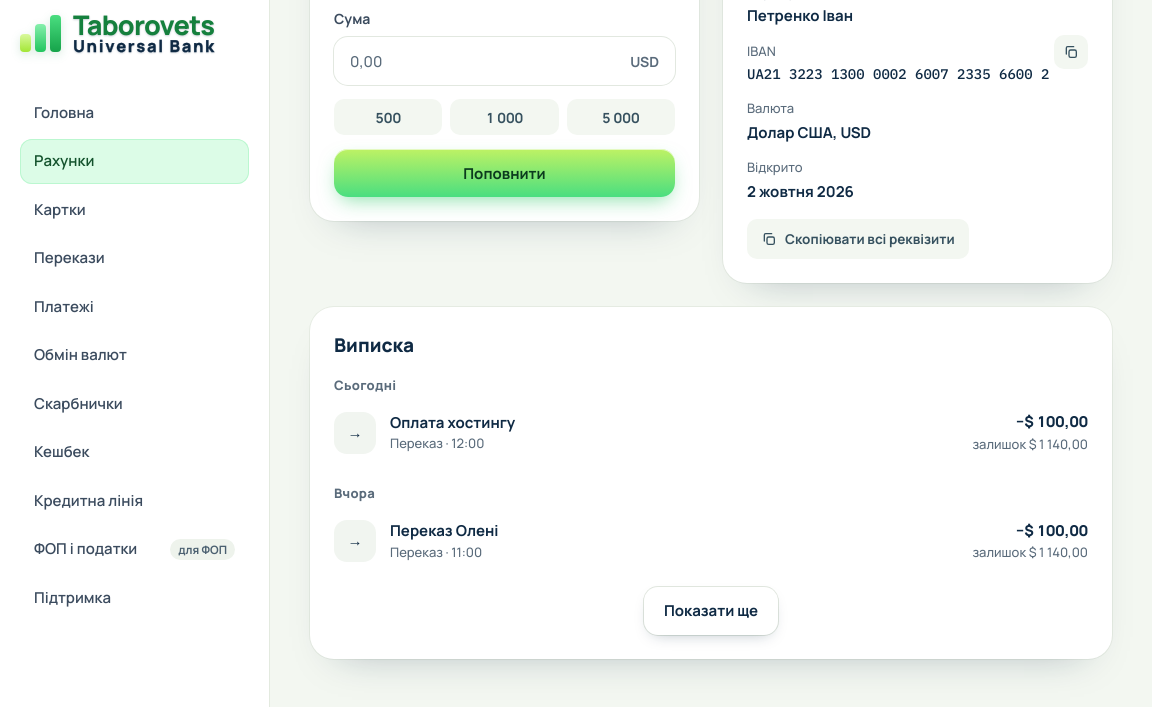
Test: AccountsPage › opens the account from the address and shows its statement by days, a page at a time
This screenshot has width=1152, height=707.
(page scrolled)
Expected: the text "Оплата хостингу" is shown, x1=390 y1=412 x2=515 y2=433
Expected: the heading "Сьогодні" is shown, x1=334 y1=376 x2=396 y2=394
What coordinates should you click on to do the following:
click the button "Показати ще"
I would click on:
 (711, 611)
Its box is x1=644 y1=587 x2=778 y2=635.
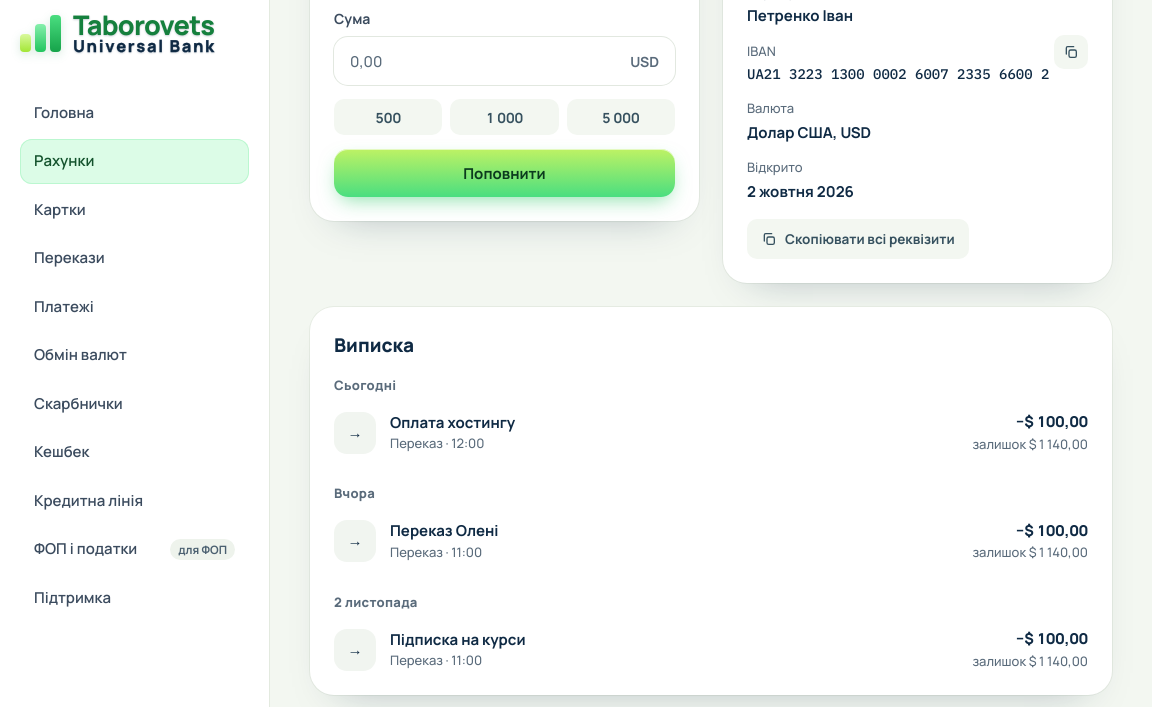
Expected: the text "Підписка на курси" is shown, x1=390 y1=629 x2=526 y2=650
Expected: the heading "2 листопада" is shown, x1=334 y1=593 x2=418 y2=611
Expected: the button "Показати ще" is gone
